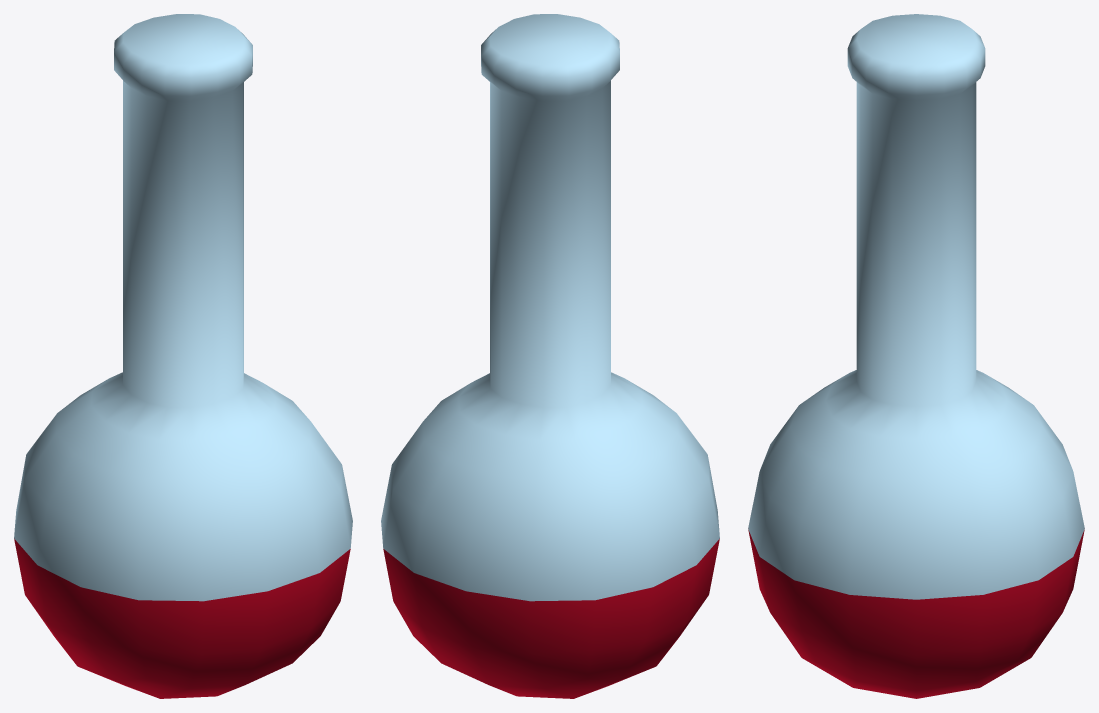
The model's file is Red KJELDAHL Flask .fbx.
The picture shows the model from 3 angles, left to right: view 1: azimuth 30°, elevation 25°; view 2: azimuth 150°, elevation 25°; view 3: azimuth 270°, elevation 25°; orthographic projection.
Parts seen in each view (by area): view 1: Red KJELDAHL Flask; view 2: Red KJELDAHL Flask; view 3: Red KJELDAHL Flask.
Part boxes in pixels (x1,y1,x2,y2): Red KJELDAHL Flask: [14, 14, 352, 698]; Red KJELDAHL Flask: [381, 14, 719, 698]; Red KJELDAHL Flask: [748, 14, 1084, 698].
Bounding box in the file's own units: 13.44 × 28.27 × 13.44.
